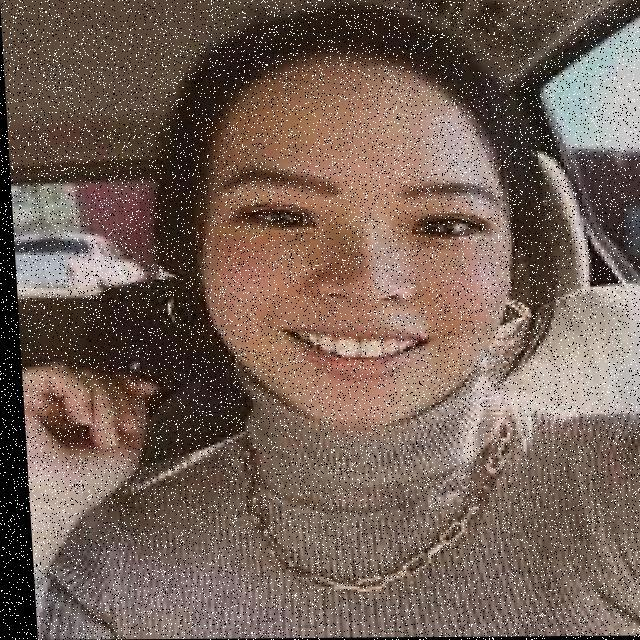noSeatbelt: (15, 320, 640, 640)
